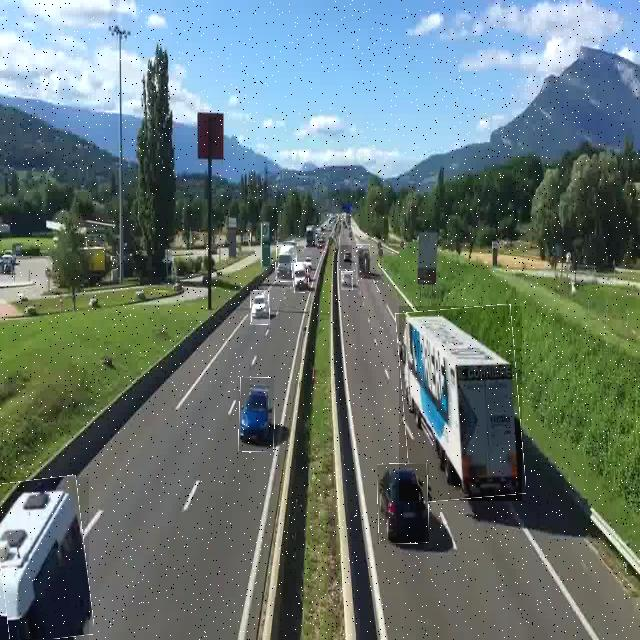Car: (377, 464, 429, 544), (239, 378, 274, 452), (250, 291, 270, 325), (292, 263, 309, 293), (340, 245, 352, 269), (341, 271, 353, 290)
Truck: (399, 306, 522, 501), (0, 477, 89, 640), (276, 242, 296, 282), (356, 244, 370, 279)
